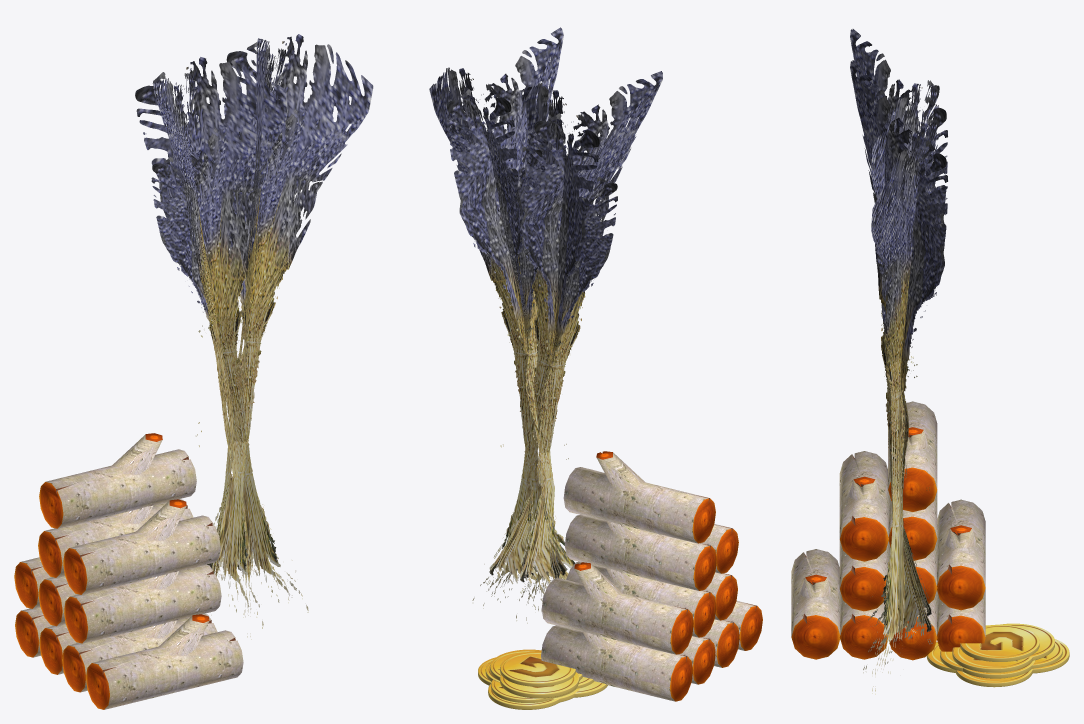
The model's file is SpinningWheel_INIT.glb.
3 renders of one model, left to right at view 1: azimuth 30°, elevation 25°; view 2: azimuth 150°, elevation 25°; view 3: azimuth 270°, elevation 25°, orthographic. The views are drawn at different scales.
Parts seen in each view (by area): view 1: SpinningWheel_INIT; view 2: SpinningWheel_INIT; view 3: SpinningWheel_INIT.
Boxes of the visible parts, x1,y1,x2,y2 form: SpinningWheel_INIT: [14, 34, 373, 709]; SpinningWheel_INIT: [429, 27, 762, 709]; SpinningWheel_INIT: [791, 29, 1069, 694].
Bounding box in the file's own units: 1.29 × 2.42 × 0.9627.
Materials: 5 (4 with a texture image).
